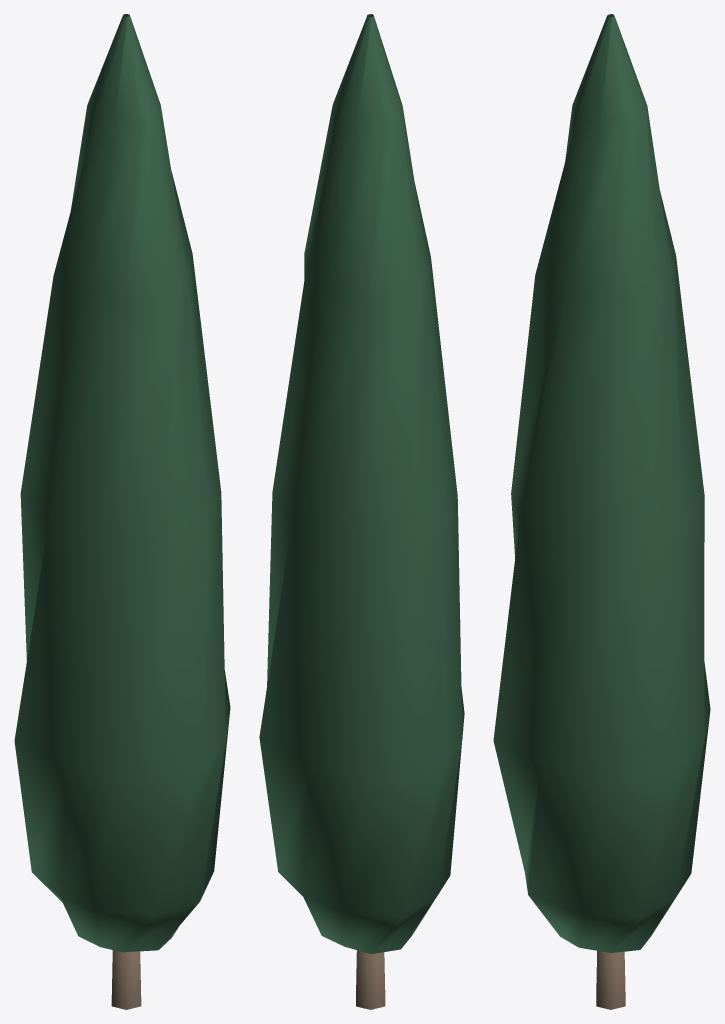
Rendered from cypress.glb.
The picture shows the model from 3 angles, left to right: view 1: azimuth 30°, elevation 25°; view 2: azimuth 150°, elevation 25°; view 3: azimuth 270°, elevation 25°; orthographic projection.
Parts seen in each view (by area): view 1: cypress; view 2: cypress; view 3: cypress.
Part boxes in pixels (x1,y1,x2,y2): cypress: (14,14,230,1009); cypress: (259,14,464,1009); cypress: (493,14,710,1009).
Bounding box in the file's own units: 2.66 × 12.8 × 2.55.
